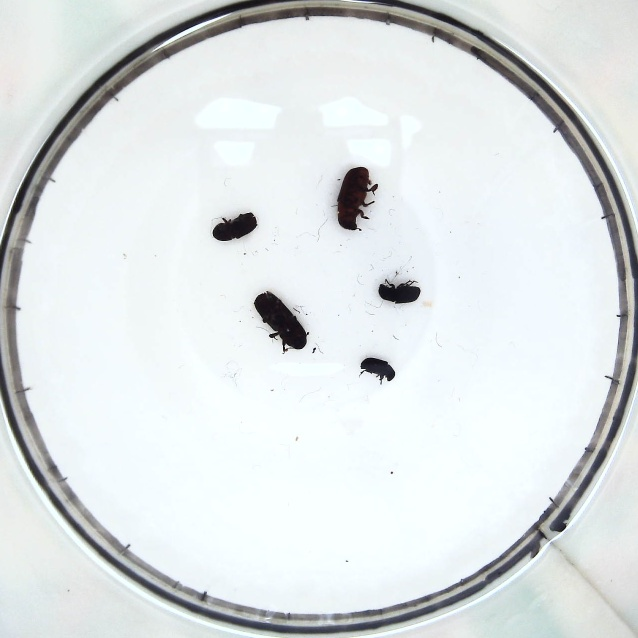armandi: (379, 278, 421, 303)
boerner: (254, 289, 307, 351)
coleoptera: (360, 354, 396, 386)
leconte: (337, 165, 378, 231)
linnaeus: (213, 210, 257, 242)
